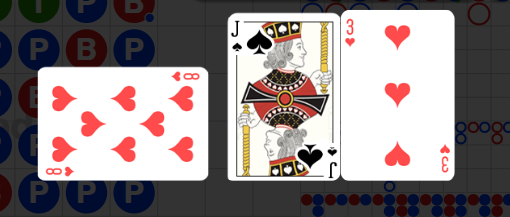3H: (438, 142, 451, 173)
8H: (45, 164, 76, 177), (169, 70, 200, 83)
JS: (295, 132, 339, 179), (228, 12, 272, 58)
